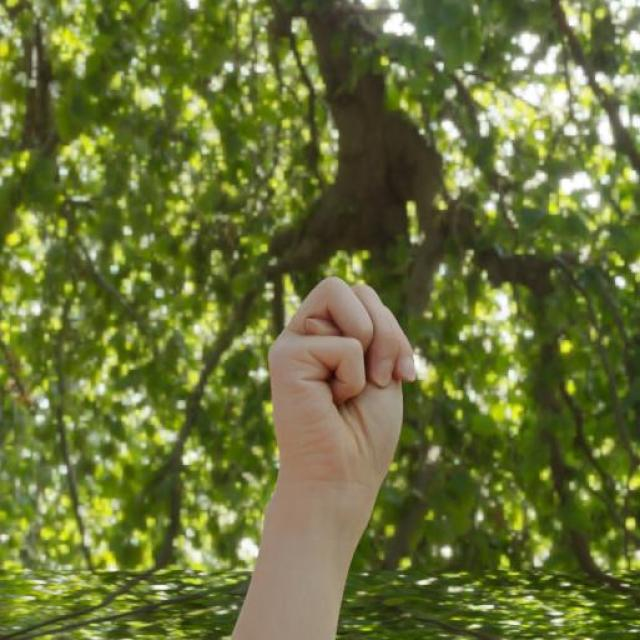M: (265, 276, 424, 490)
